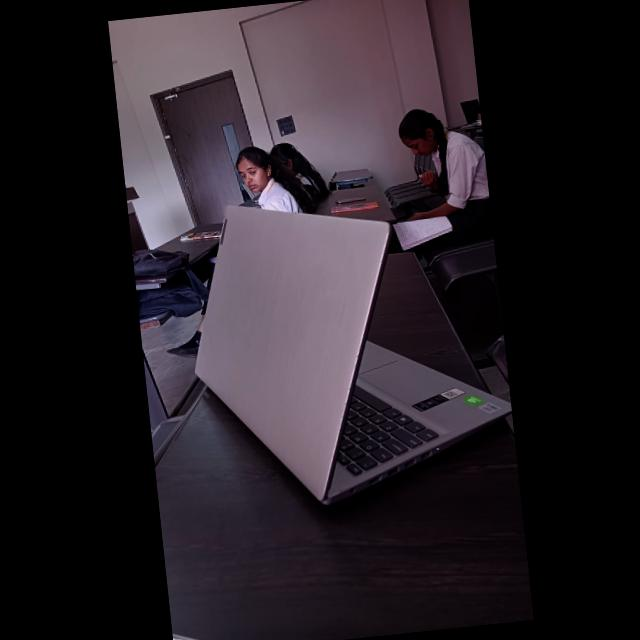laptop: (175, 195, 521, 536)
